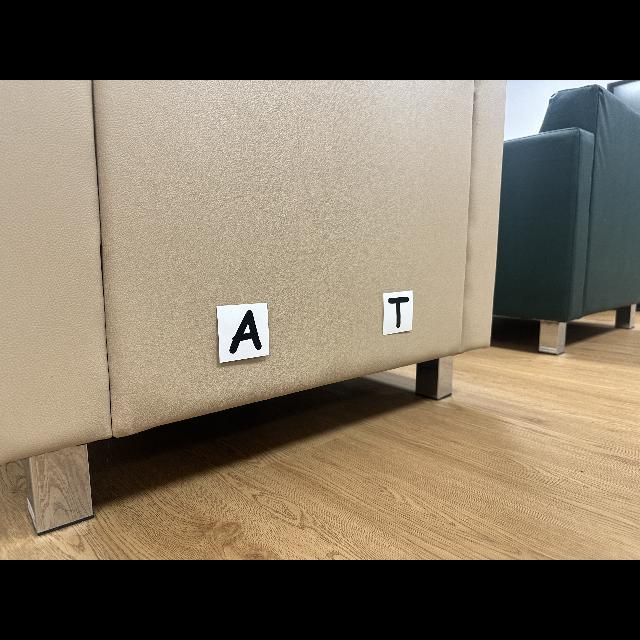A: (229, 310, 261, 354)
T: (388, 296, 409, 329)
